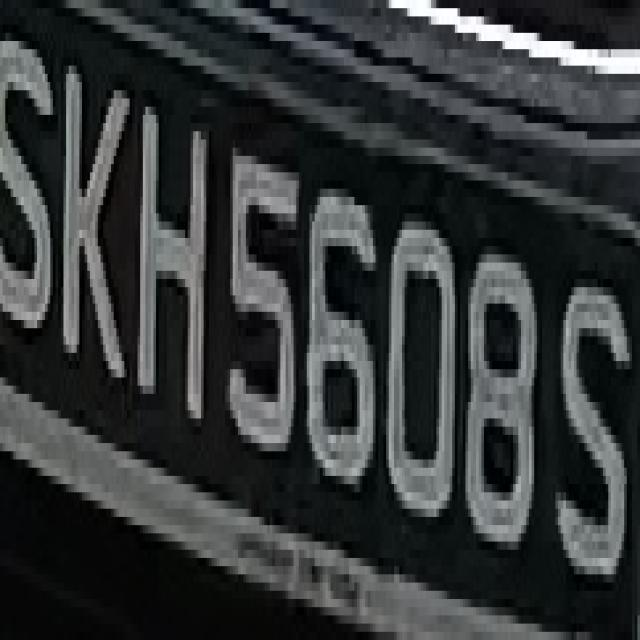0: (389, 180, 455, 558)
5: (222, 115, 299, 476)
6: (296, 148, 378, 542)
8: (460, 230, 548, 599)
H: (124, 82, 214, 468)
K: (53, 41, 127, 427)
S: (553, 230, 629, 607), (5, 0, 48, 353)
